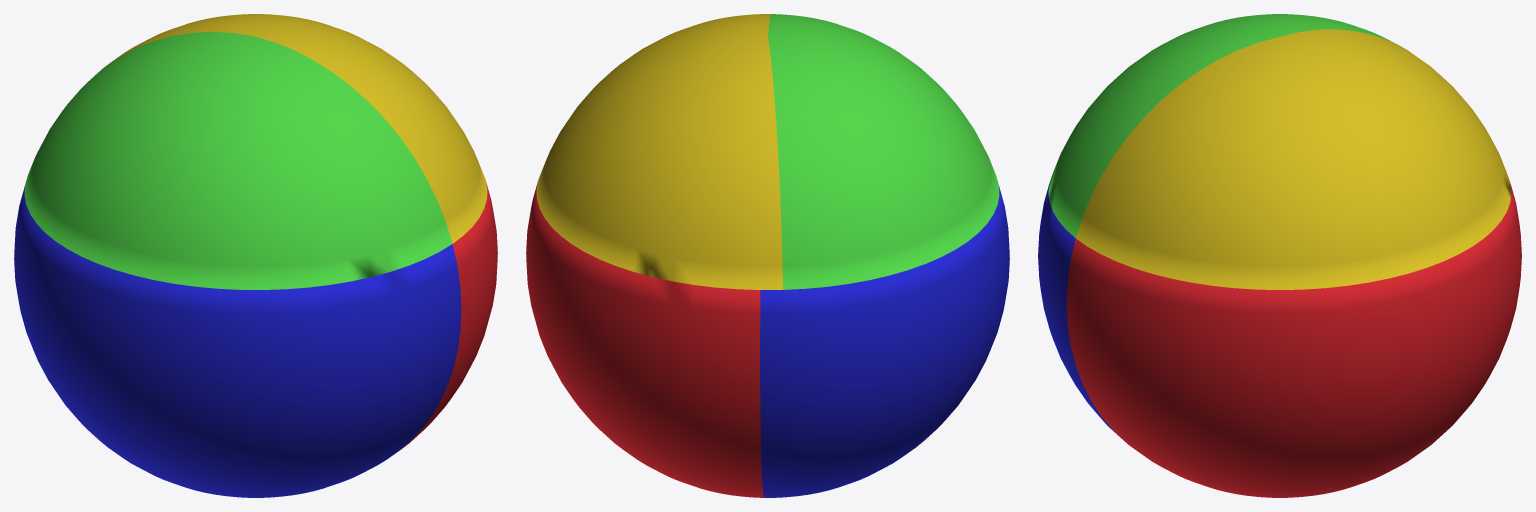
File: badboll.fbx
3 renders of one model, left to right at view 1: azimuth 30°, elevation 25°; view 2: azimuth 150°, elevation 25°; view 3: azimuth 270°, elevation 25°, orthographic.
Parts seen in each view (by area): view 1: Sphere; view 2: Sphere; view 3: Sphere.
Boxes of the visible parts, bbox=[...] form: Sphere: bbox=[14, 14, 497, 497]; Sphere: bbox=[526, 14, 1009, 497]; Sphere: bbox=[1038, 14, 1521, 497].
Bounding box in the file's own units: 19.95 × 19.95 × 19.95.
